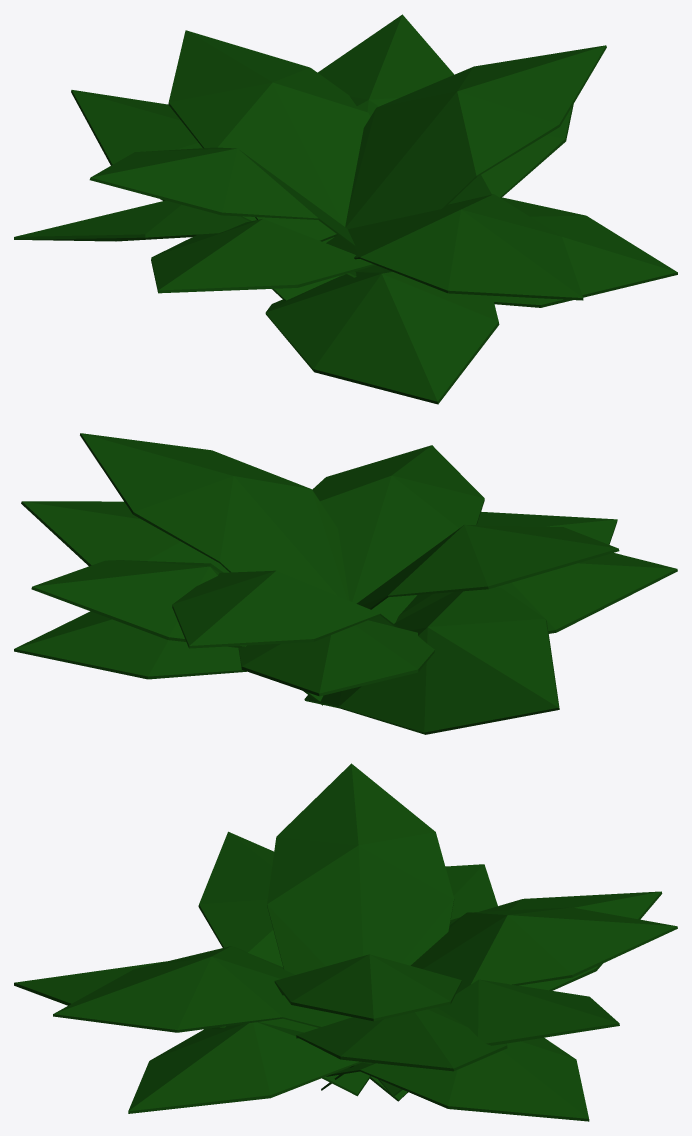
Rendered from Plant.glb.
3 renders of one model, top to bottom at view 1: azimuth 30°, elevation 25°; view 2: azimuth 150°, elevation 25°; view 3: azimuth 270°, elevation 25°, orthographic. The views are drawn at different scales.
Visible parts, largest first — view 1: Asset3DLoader.sceneRoot; view 2: Asset3DLoader.sceneRoot; view 3: Asset3DLoader.sceneRoot.
Part boxes in pixels (x1,y1,x2,y2): Asset3DLoader.sceneRoot: (14, 14, 677, 404); Asset3DLoader.sceneRoot: (14, 433, 677, 734); Asset3DLoader.sceneRoot: (14, 763, 677, 1121).
Size of the model in its own units: 3.03 by 1.07 by 3.23.
